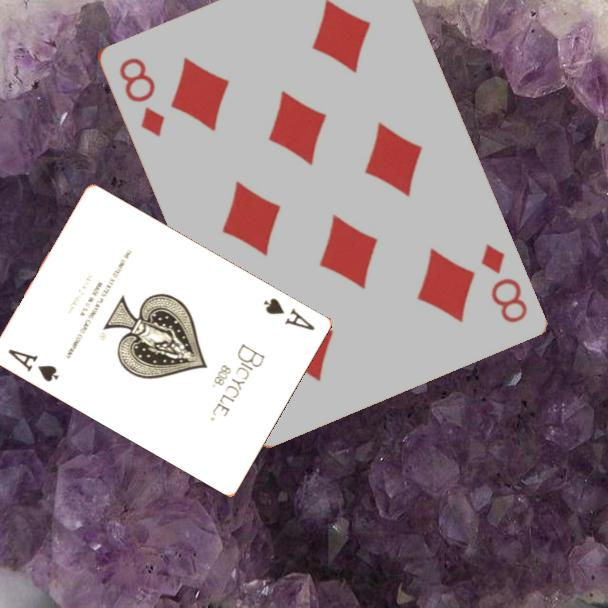d08: (477, 239, 530, 326), (115, 54, 167, 140)
s01: (261, 294, 318, 334), (5, 345, 62, 385)
